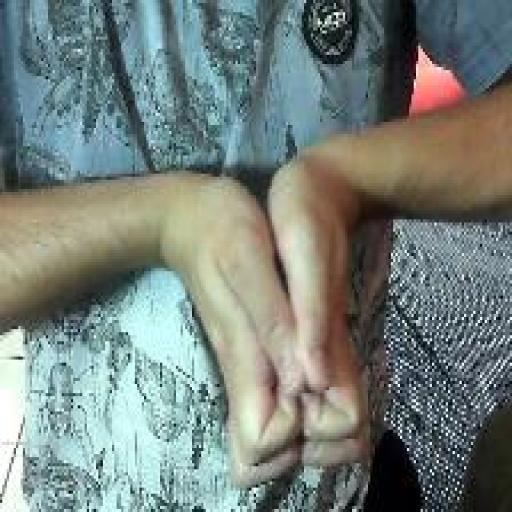I -boar-: (186, 157, 374, 495)
